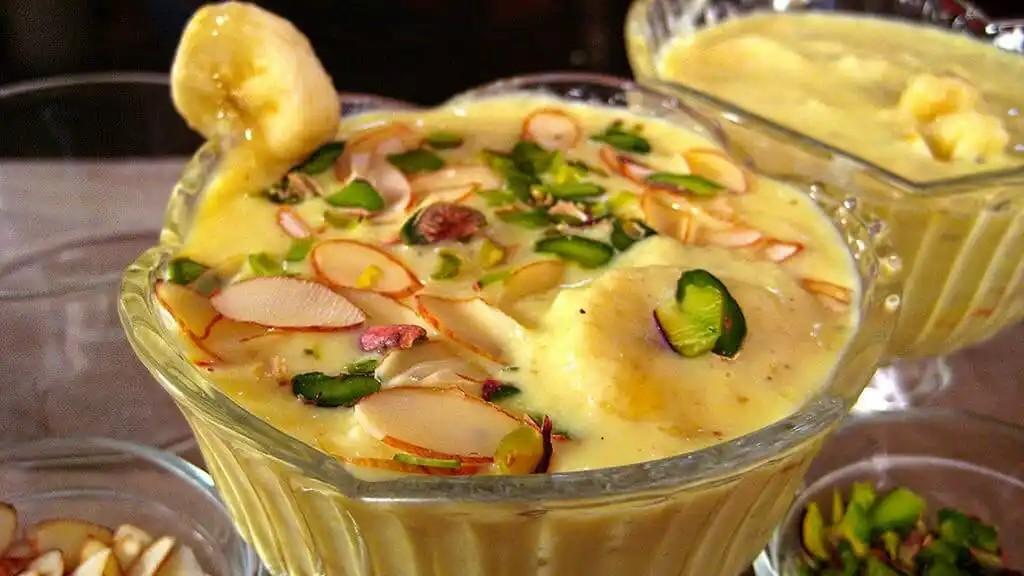Kheer: (151, 0, 876, 576), (652, 10, 1024, 356)
